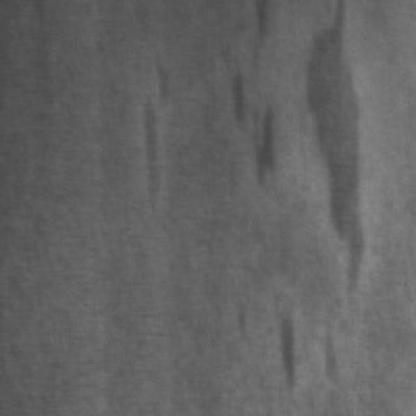inclusion: (304, 0, 374, 295), (229, 0, 289, 185), (239, 302, 347, 391), (141, 52, 176, 208)
